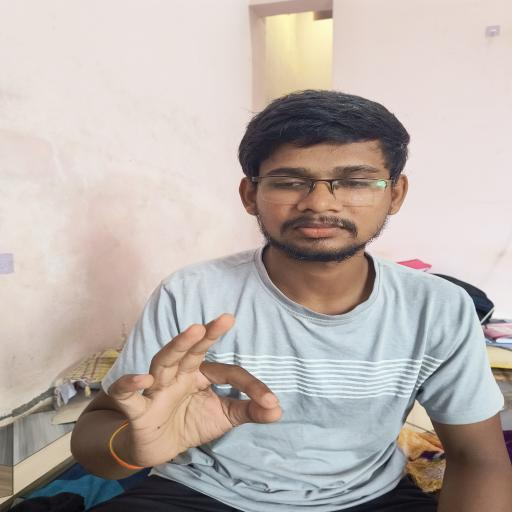Previous: (91, 311, 312, 476)
